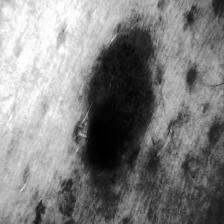Benign Marking or Mole: (88, 37, 157, 166)
